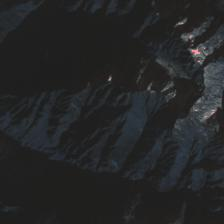landslides: (109, 158, 120, 173)
